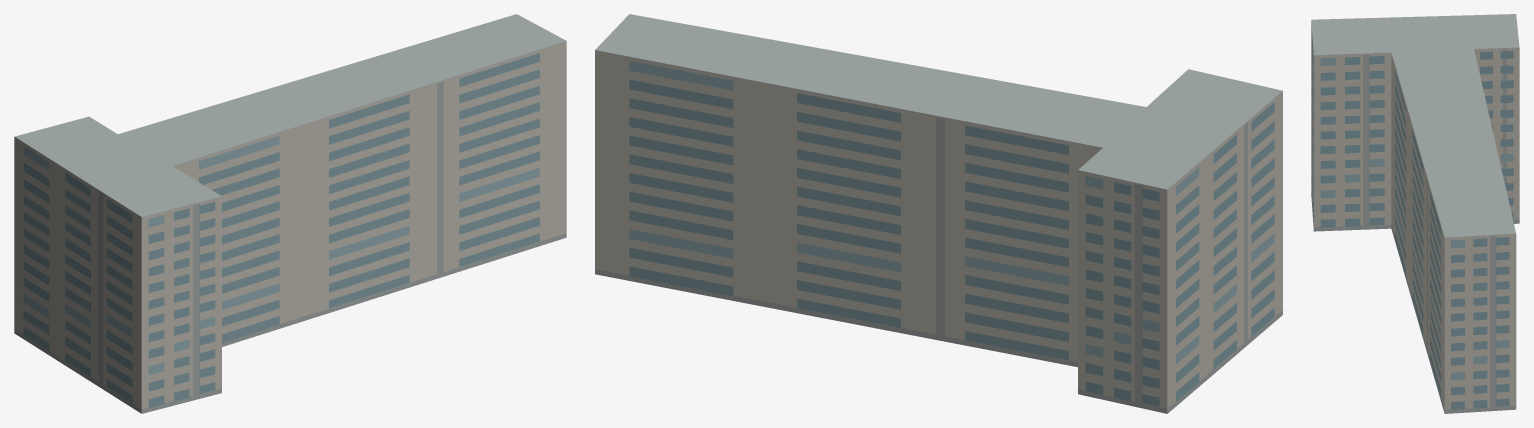
File: residential-599c256a-0c8e-4020-b6e1-4df754ebbebf.glb
3 views of the same model, side by side, from view 1: azimuth 30°, elevation 25°; view 2: azimuth 150°, elevation 25°; view 3: azimuth 270°, elevation 25° (orthographic). The views are drawn at different scales.
Parts seen in each view (by area): view 1: residential-599c256a-0c8e-4020-b6e1-4df754ebbebf.tmp; view 2: residential-599c256a-0c8e-4020-b6e1-4df754ebbebf.tmp; view 3: residential-599c256a-0c8e-4020-b6e1-4df754ebbebf.tmp.
Boxes of the visible parts, box(x1,y1,x2,y2) form: residential-599c256a-0c8e-4020-b6e1-4df754ebbebf.tmp: box(14, 14, 566, 413); residential-599c256a-0c8e-4020-b6e1-4df754ebbebf.tmp: box(595, 14, 1282, 413); residential-599c256a-0c8e-4020-b6e1-4df754ebbebf.tmp: box(1311, 14, 1519, 413).
Bounding box in the file's own units: 87.15 × 32 × 34.26.
